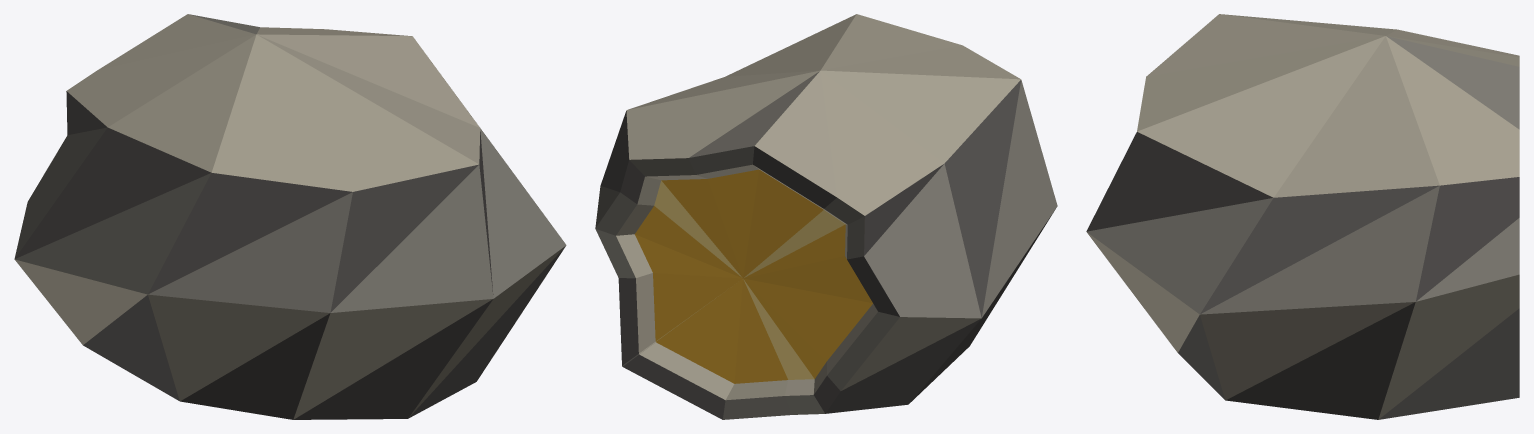
File: RawOpenGold.fbx
The picture shows the model from 3 angles, left to right: view 1: azimuth 30°, elevation 25°; view 2: azimuth 150°, elevation 25°; view 3: azimuth 270°, elevation 25°; orthographic projection. The views are drawn at different scales.
Parts seen in each view (by area): view 1: RawOpenGold_Mesh; view 2: RawOpenGold_Mesh; view 3: RawOpenGold_Mesh.
Part boxes in pixels (box(x1,y1,x2,y2)): RawOpenGold_Mesh: box(14, 14, 566, 419); RawOpenGold_Mesh: box(595, 14, 1057, 419); RawOpenGold_Mesh: box(1086, 14, 1519, 419).
Size of the model in its own units: 0.55 by 0.45 by 0.5.
